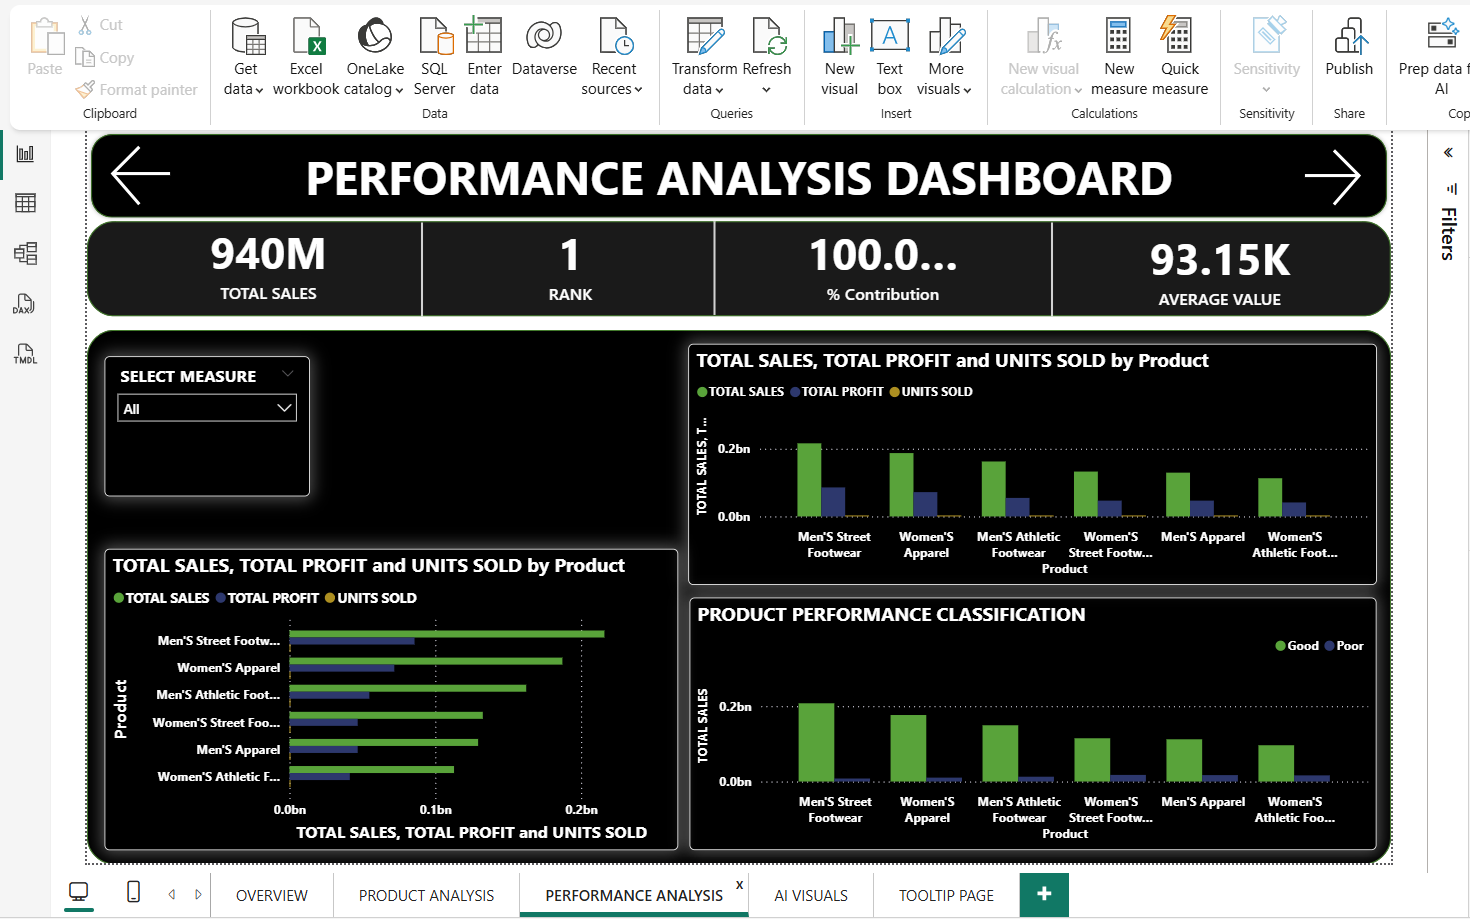

The dashboard page shown, as its layout file describes it:
{"tool":"powerbi","page":{"name":"PERFORMANCE ANALYSIS","canvas":[1280,720],"ordinal":2},"visuals":[{"type":"shape","box":[0,0,1280,90],"z":0},{"type":"shape","box":[0,89.6,1279.8,93.3],"z":1000},{"type":"card","fields":{"Values":["Adidas Sales.TOTAL SALES"]},"box":[77.3,55.2,202.5,149.7],"z":2000},{"type":"card","fields":{"Values":["Adidas Sales.Product Rank"]},"box":[396.3,77.3,157.1,108],"z":3000},{"type":"card","fields":{"Values":["Adidas Sales.AVG TRANSACTION VALUE"]},"box":[1013.5,62.6,197.5,147.2],"z":4000},{"type":"shape","box":[0,196.2,1280,524.5],"z":5000},{"type":"slicer","fields":{"Values":["Parameter.Parameter"]},"box":[16.7,222.6,201.7,137.7],"z":6000},{"type":"clusteredColumnChart","fields":{"Y":["Adidas Sales.TOTAL SALES","Adidas Sales.TOTAL PROFIT","Adidas Sales.UNITS SOLD"],"Category":["Adidas Sales.Product"]},"box":[589.9,210.1,676.2,236.5],"z":7000},{"type":"clusteredBarChart","fields":{"Y":["Adidas Sales.TOTAL SALES","Adidas Sales.TOTAL PROFIT","Adidas Sales.UNITS SOLD"],"Category":["Adidas Sales.Product"]},"box":[16.7,410.4,563.5,296.3],"z":8000},{"type":"clusteredColumnChart","title":"PRODUCT PERFORMANCE CLASSIFICATION","fields":{"Y":["Adidas Sales.TOTAL SALES"],"Category":["Adidas Sales.Product"],"Series":["Adidas Sales.Performance Status COLUMN"]},"box":[591.3,459.1,674.8,247.7],"z":9000},{"type":"card","fields":{"Values":["Adidas Sales.% Contribution"]},"box":[693.3,57.7,176.7,147.2],"z":10000},{"type":"shape","box":[251.5,90.8,154.6,92],"z":11000},{"type":"shape","box":[869.9,90.8,154.6,92],"z":12000},{"type":"shape","box":[538.7,89.6,154.6,92],"z":13000},{"type":"actionButton","box":[1187.7,12.3,92,68.7],"z":13001},{"type":"actionButton","box":[17.2,8.6,83.4,72.4],"z":13002}]}

Visuals, with their boxes on the page's 1280x720 design canvas (x1, y1, x2, y2). These are canvas units, not pixel positions in the 1470x919 screenshot, which may show the page scaled, cropped or inside an application window:
shape: bbox(0, 0, 1280, 90)
shape: bbox(0, 90, 1280, 183)
card - Adidas Sales.TOTAL SALES: bbox(77, 55, 280, 205)
card - Adidas Sales.Product Rank: bbox(396, 77, 553, 185)
card - Adidas Sales.AVG TRANSACTION VALUE: bbox(1014, 63, 1211, 210)
shape: bbox(0, 196, 1280, 721)
slicer - Parameter.Parameter: bbox(17, 223, 218, 360)
clusteredColumnChart - Adidas Sales.TOTAL SALES x Adidas Sales.TOTAL PROFIT: bbox(590, 210, 1266, 447)
clusteredBarChart - Adidas Sales.TOTAL SALES x Adidas Sales.TOTAL PROFIT: bbox(17, 410, 580, 707)
"PRODUCT PERFORMANCE CLASSIFICATION" clusteredColumnChart: bbox(591, 459, 1266, 707)
card - Adidas Sales.% Contribution: bbox(693, 58, 870, 205)
shape: bbox(252, 91, 406, 183)
shape: bbox(870, 91, 1024, 183)
shape: bbox(539, 90, 693, 182)
actionButton: bbox(1188, 12, 1280, 81)
actionButton: bbox(17, 9, 101, 81)
